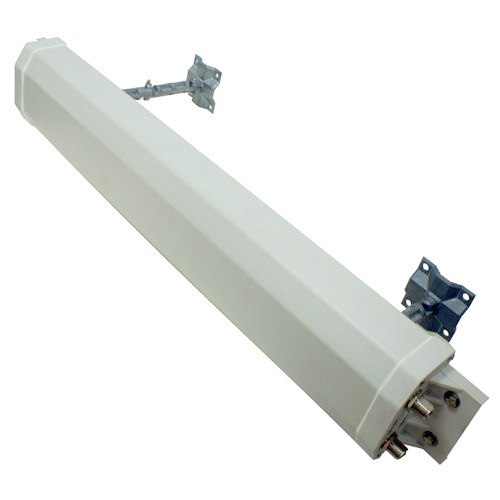sa: (10, 29, 500, 480)
